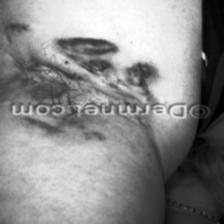Non-Cancerous Skin Condition: (16, 57, 52, 89), (54, 38, 114, 56), (128, 62, 155, 86), (2, 20, 30, 32), (92, 62, 115, 76)
